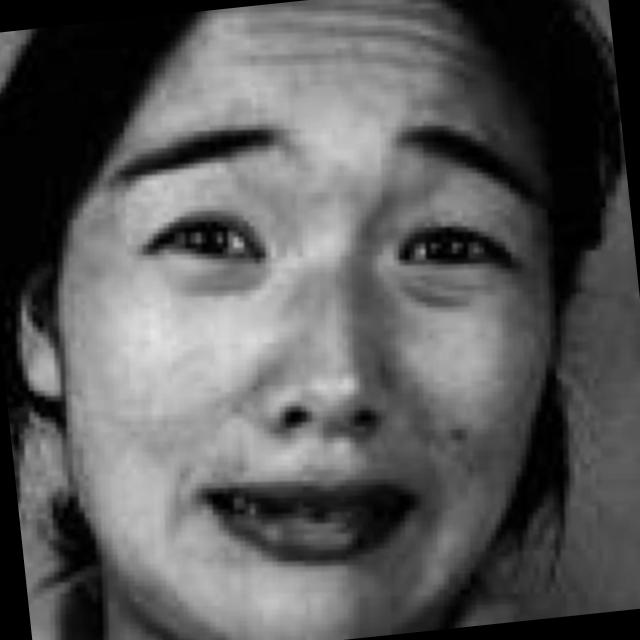fear: (41, 31, 628, 640)
